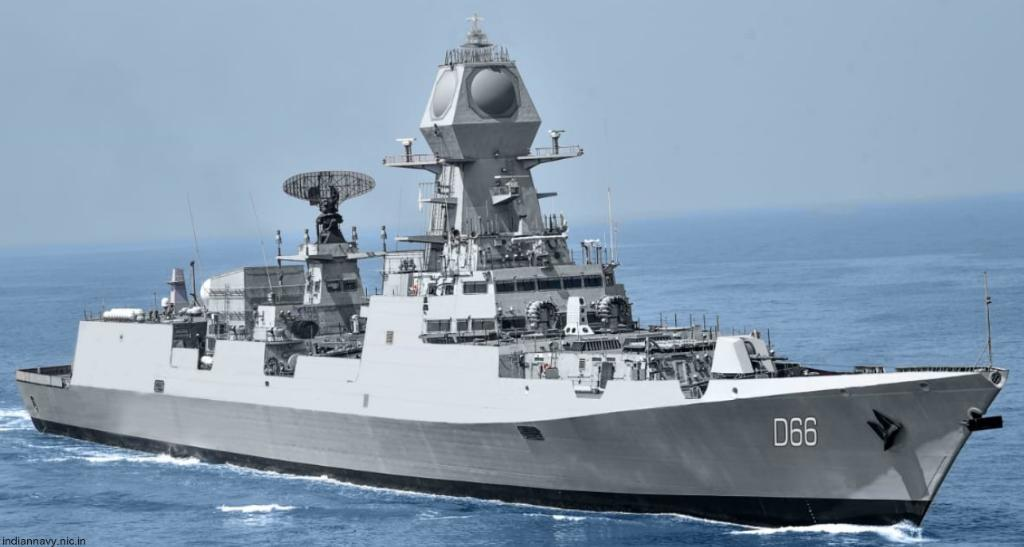Warship: (14, 11, 1018, 529)
